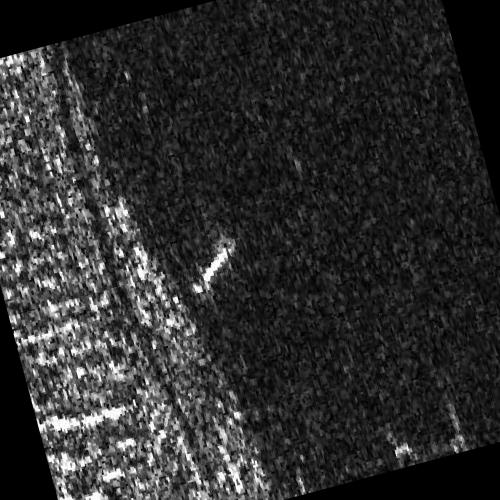ship: (192, 237, 236, 295)
